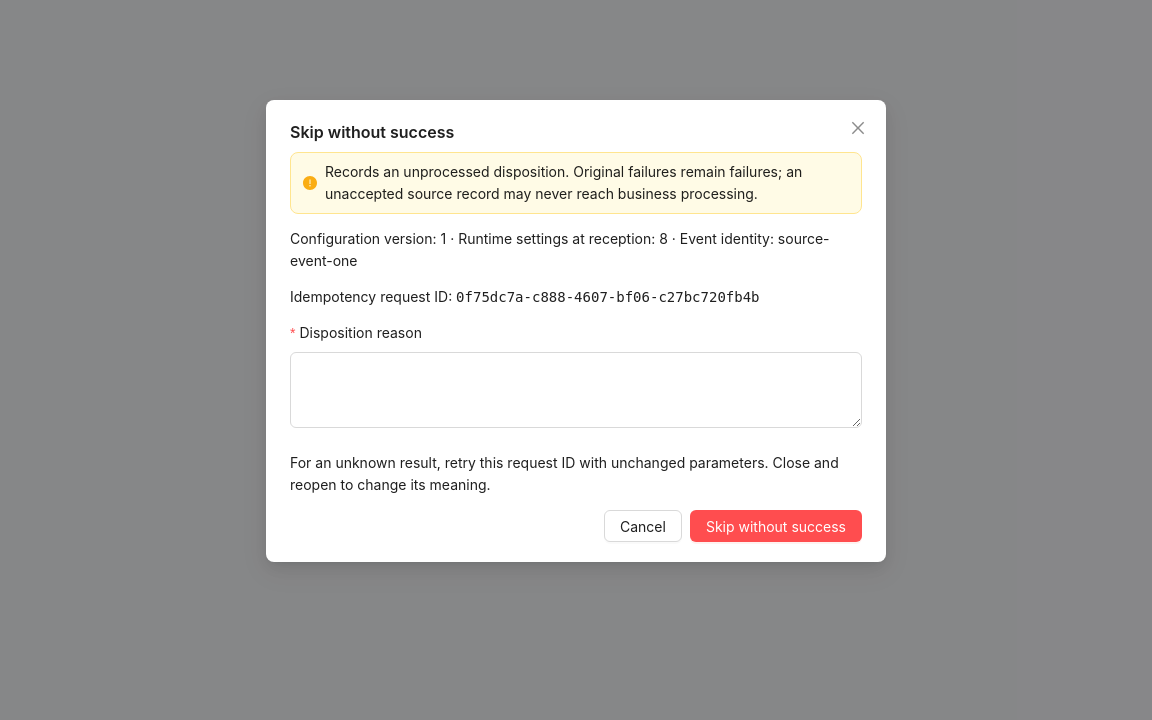
Test: subscription disposition contract › requires a reason before a destructive skip
Click the button "Skip without success": click(776, 526) [690, 510, 862, 542]
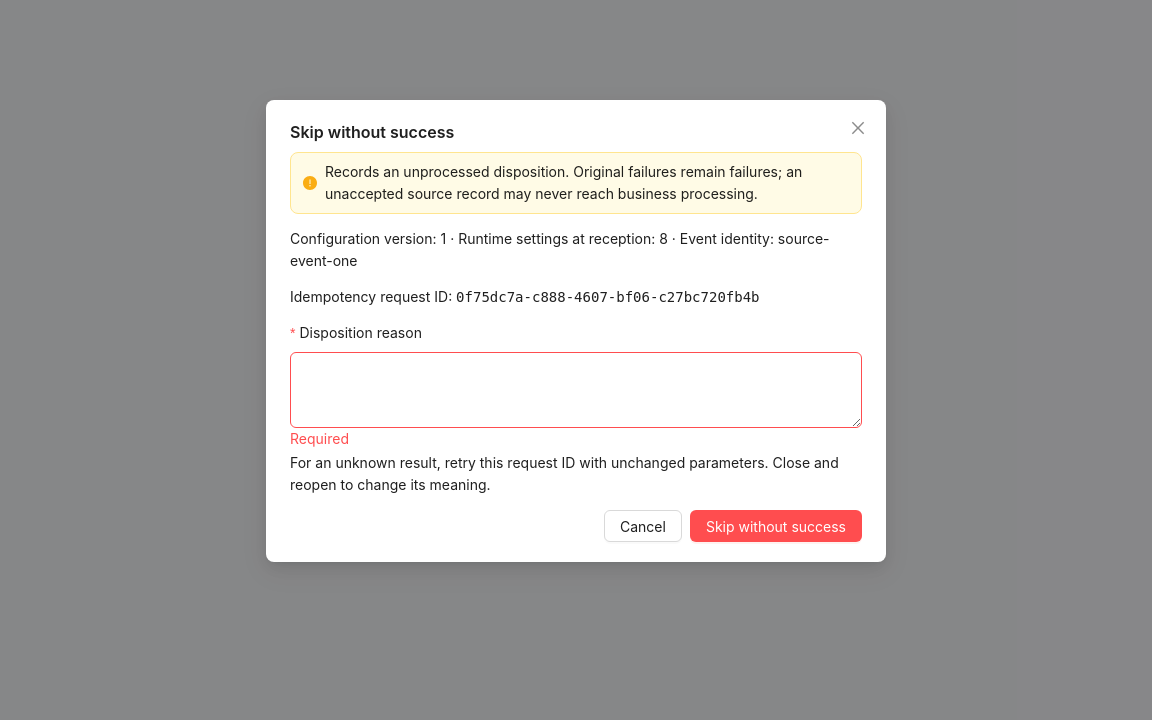
Expected: the text "Required" is shown, [290, 430, 349, 447]
